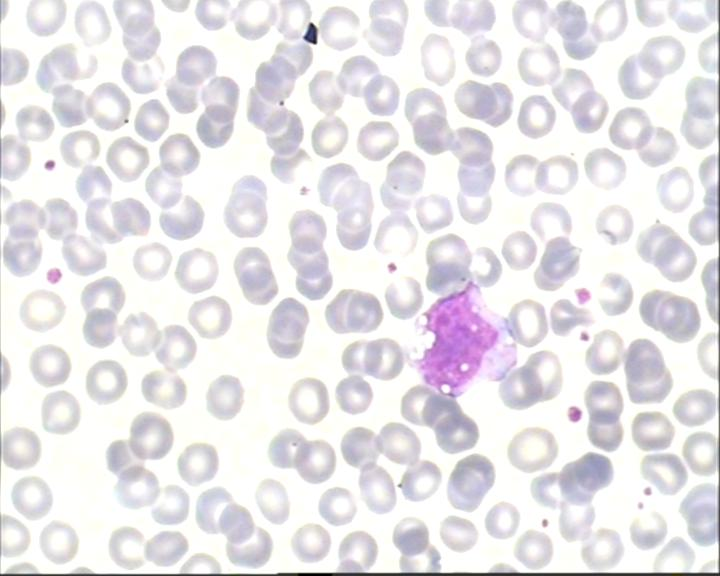mono: (406, 277, 522, 397)
